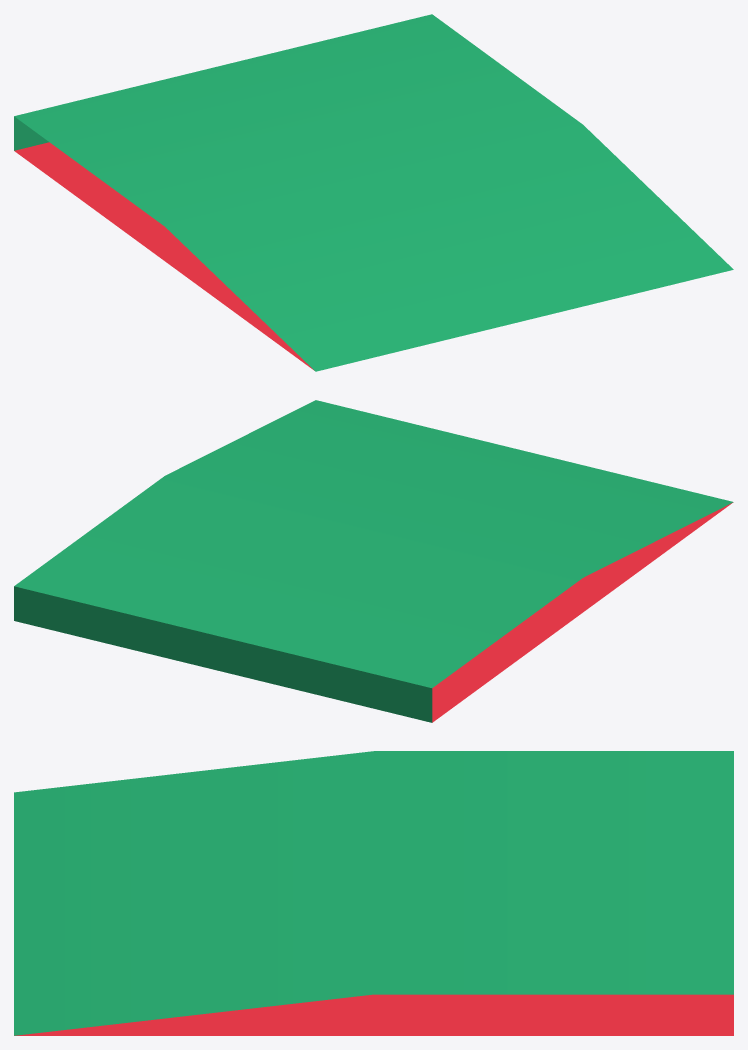
File: Start 1.FBX
3 renders of one model, top to bottom at view 1: azimuth 30°, elevation 25°; view 2: azimuth 150°, elevation 25°; view 3: azimuth 270°, elevation 25°, orthographic. The views are drawn at different scales.
Parts seen in each view (by area): view 1: start; view 2: start; view 3: start.
Boxes of the visible parts, bbox=[...] form: start: bbox=[14, 14, 733, 371]; start: bbox=[14, 400, 733, 722]; start: bbox=[14, 751, 733, 1035].
Size of the model in its own units: 79.99 by 6.33 by 99.99.
